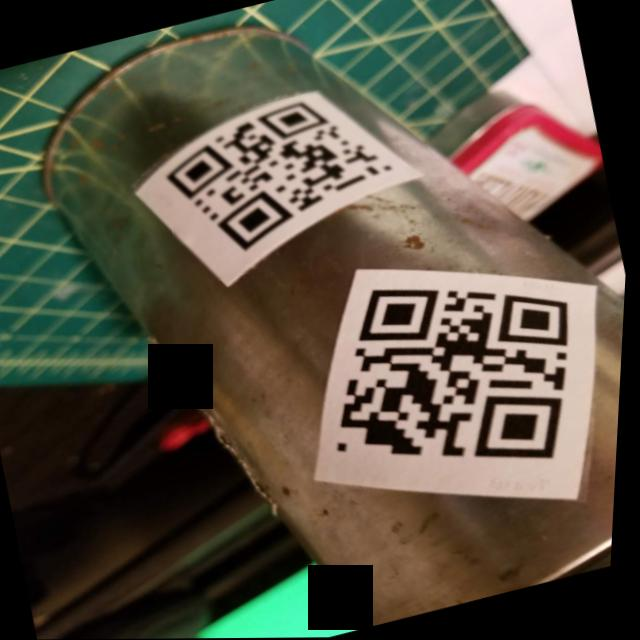QR_CODE: (265, 233, 630, 548), (147, 74, 424, 290)
